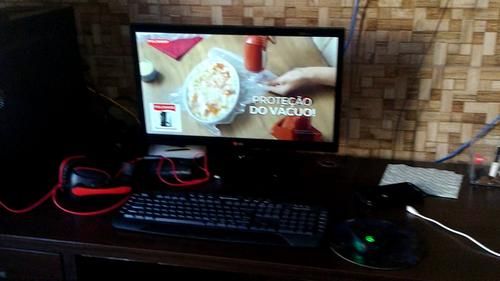Polishop #1: (148, 101, 182, 133)
